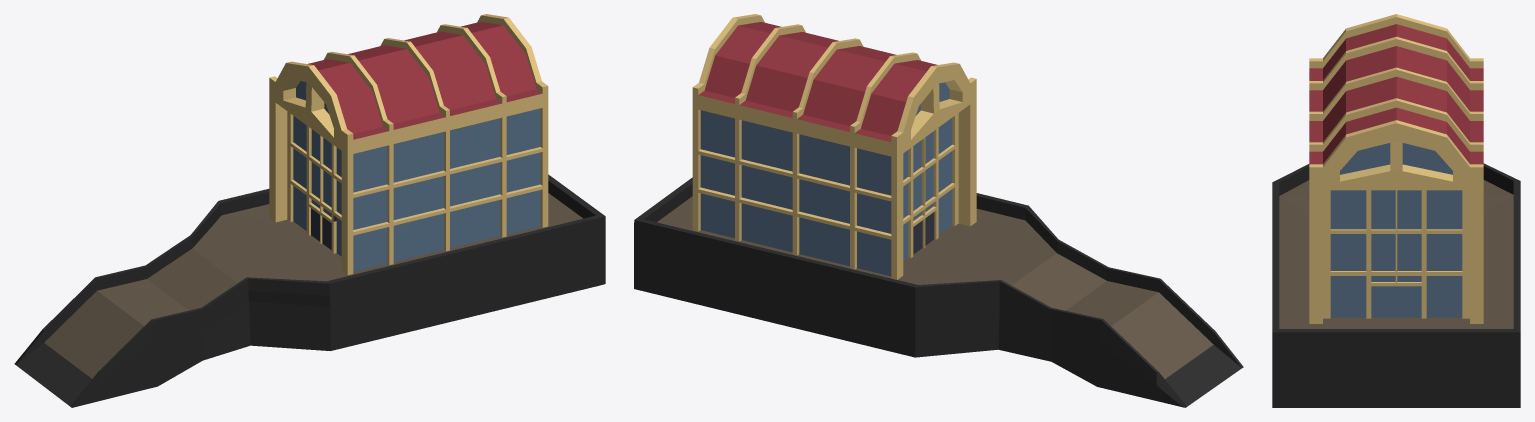
File: Evacuation_center.fbx
The picture shows the model from 3 angles, left to right: view 1: azimuth 30°, elevation 25°; view 2: azimuth 150°, elevation 25°; view 3: azimuth 270°, elevation 25°; orthographic projection. The views are drawn at different scales.
Visible parts, largest first — view 1: Cube; view 2: Cube; view 3: Cube.
Part boxes in pixels (x1,y1,x2,y2): Cube: [14, 14, 605, 407]; Cube: [634, 14, 1243, 407]; Cube: [1272, 14, 1520, 407].
Size of the model in its own units: 37728 by 17801 by 14260.
